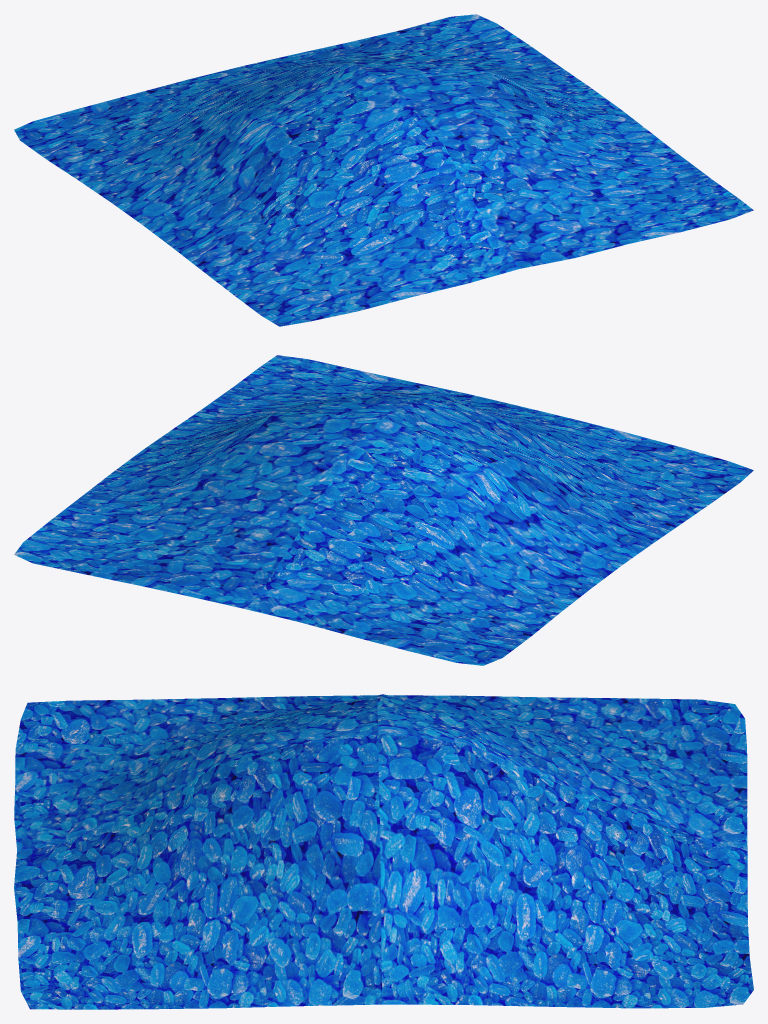
The model's file is copper_sulfate.fbx.
3 views of the same model, one above another, from view 1: azimuth 30°, elevation 25°; view 2: azimuth 150°, elevation 25°; view 3: azimuth 270°, elevation 25° (orthographic). The views are drawn at different scales.
Visible parts, largest first — view 1: copper_sulfate; view 2: copper_sulfate; view 3: copper_sulfate.
Boxes of the visible parts, x1,y1,x2,y2 form: copper_sulfate: (14,14,753,326); copper_sulfate: (14,355,753,665); copper_sulfate: (14,694,753,1009).
Size of the model in its own units: 52.92 by 9.73 by 53.46.
Materials: 1 (1 with a texture image).
